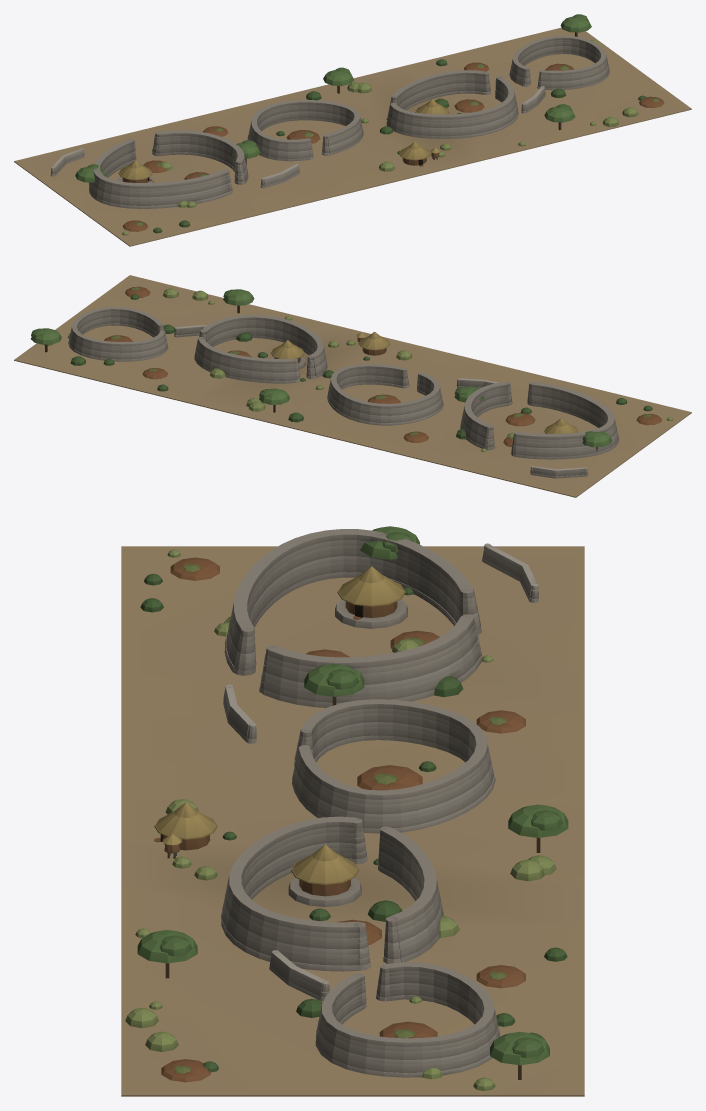
The model's file is valley-ruins-1500.glb.
3 renders of one model, top to bottom at view 1: azimuth 30°, elevation 25°; view 2: azimuth 150°, elevation 25°; view 3: azimuth 270°, elevation 25°, orthographic. The views are drawn at different scales.
Visible parts, largest first — view 1: p0_ground, p1_walls, p3_trees, p2_houses; view 2: p0_ground, p1_walls, p3_trees, p2_houses; view 3: p0_ground, p1_walls, p2_houses, p3_trees.
Part boxes in pixels (<box>): p0_ground: <box>14,27,691,246</box>; p1_walls: <box>50,35,609,208</box>; p3_trees: <box>75,14,646,235</box>; p2_houses: <box>118,62,664,231</box>; p0_ground: <box>14,275,691,497</box>; p1_walls: <box>68,307,619,478</box>; p3_trees: <box>31,288,672,451</box>; p2_houses: <box>104,286,661,447</box>; p0_ground: <box>121,546,584,1096</box>; p1_walls: <box>221,529,538,1077</box>; p2_houses: <box>154,557,525,1082</box>; p3_trees: <box>125,526,568,1090</box>.
Bounding box in the file's own units: 140 × 5.8 × 50.
